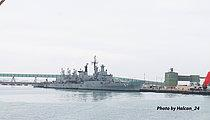MIL_Ship: (31, 56, 145, 91)
